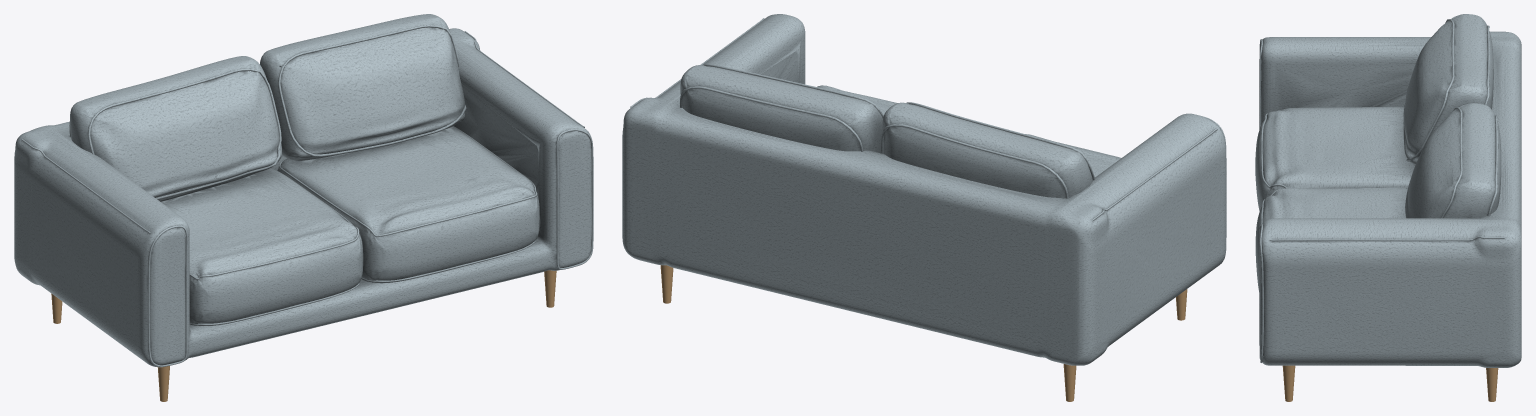
The model's file is chenille-bruma.gltf.
3 renders of one model, left to right at view 1: azimuth 30°, elevation 25°; view 2: azimuth 150°, elevation 25°; view 3: azimuth 270°, elevation 25°, orthographic. The views are drawn at different scales.
Visible parts, largest first — view 1: tela_ar, madera_ar; view 2: tela_ar, madera_ar; view 3: tela_ar, madera_ar.
Boxes of the visible parts, bbox=[...] form: tela_ar: bbox=[14, 14, 593, 367]; madera_ar: bbox=[51, 270, 556, 401]; tela_ar: bbox=[622, 14, 1226, 365]; madera_ar: bbox=[660, 265, 1187, 401]; tela_ar: bbox=[1255, 14, 1521, 367]; madera_ar: bbox=[1282, 365, 1498, 401].
Size of the model in its own units: 1.7 by 0.8275 by 0.9121.
2 materials, 2 textured.
